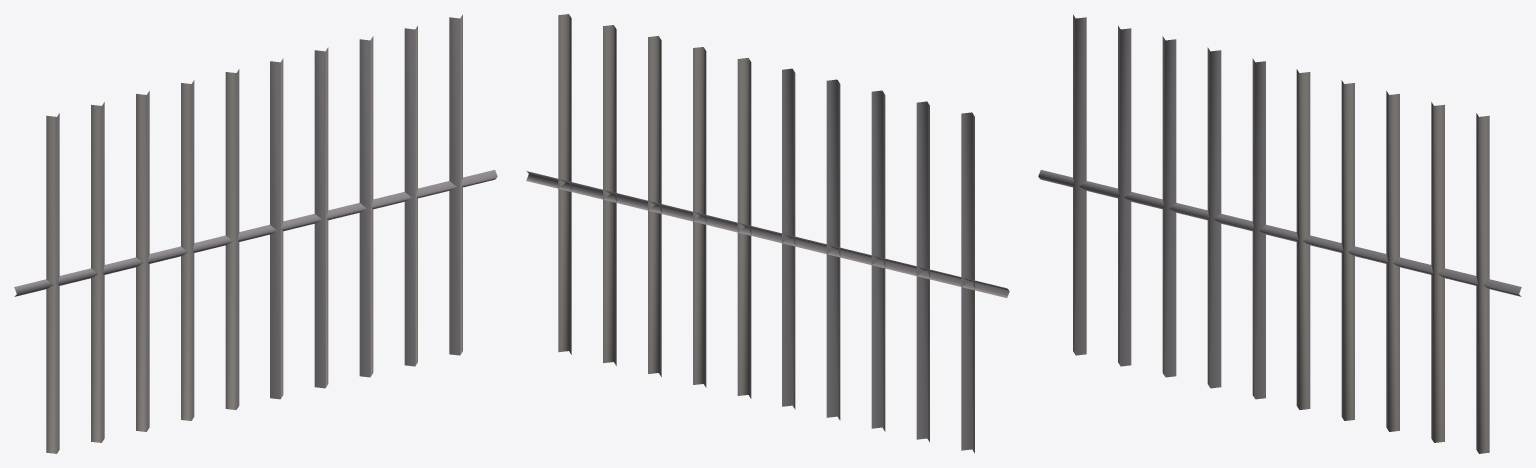
The model's file is SM_ENV_K1_WINDOWBAR_01.fbx.
3 renders of one model, left to right at view 1: azimuth 30°, elevation 25°; view 2: azimuth 150°, elevation 25°; view 3: azimuth 330°, elevation 25°, orthographic.
Parts seen in each view (by area): view 1: SM_ENV_K1_WINDOWBAR_01; view 2: SM_ENV_K1_WINDOWBAR_01; view 3: SM_ENV_K1_WINDOWBAR_01.
Part boxes in pixels (x1,y1,x2,y2): SM_ENV_K1_WINDOWBAR_01: (14,14,497,453); SM_ENV_K1_WINDOWBAR_01: (526,14,1009,453); SM_ENV_K1_WINDOWBAR_01: (1038,14,1521,453).
Bounding box in the file's own units: 1.5 × 1 × 0.0212.
